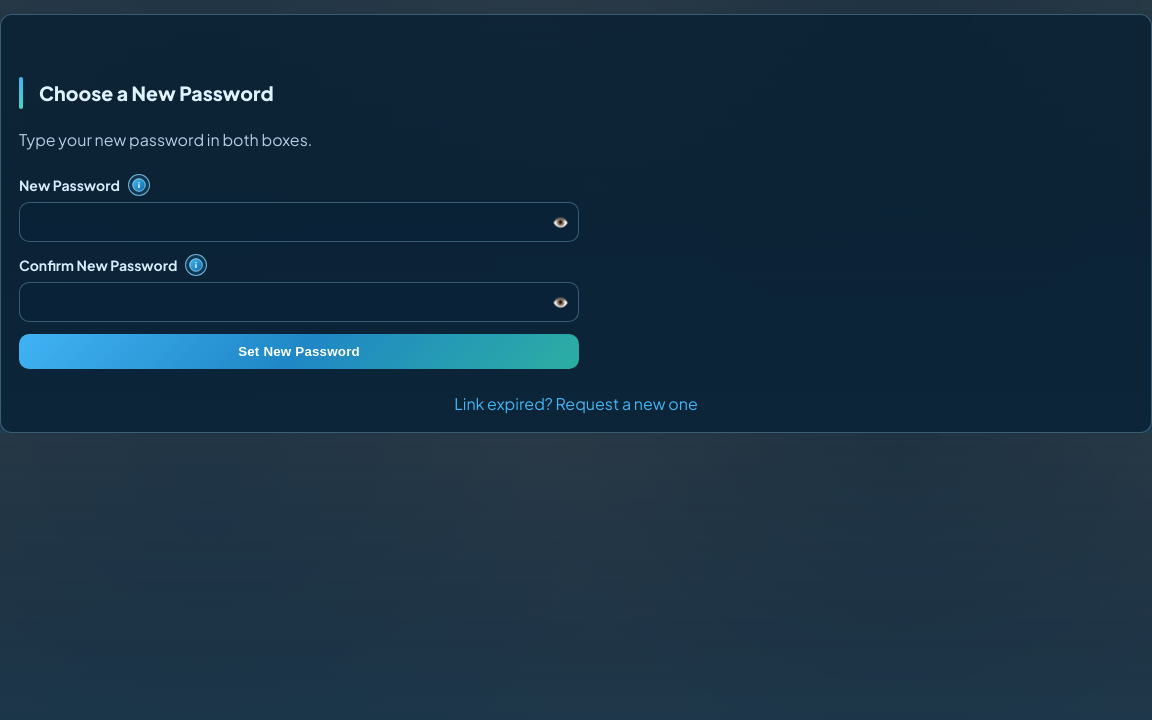
ResetPasswordPage › sets the new password with the token from the link
Type "BrandNew123" into the password field labelled "New Password". click: (299, 222)
box: [19, 202, 579, 242]
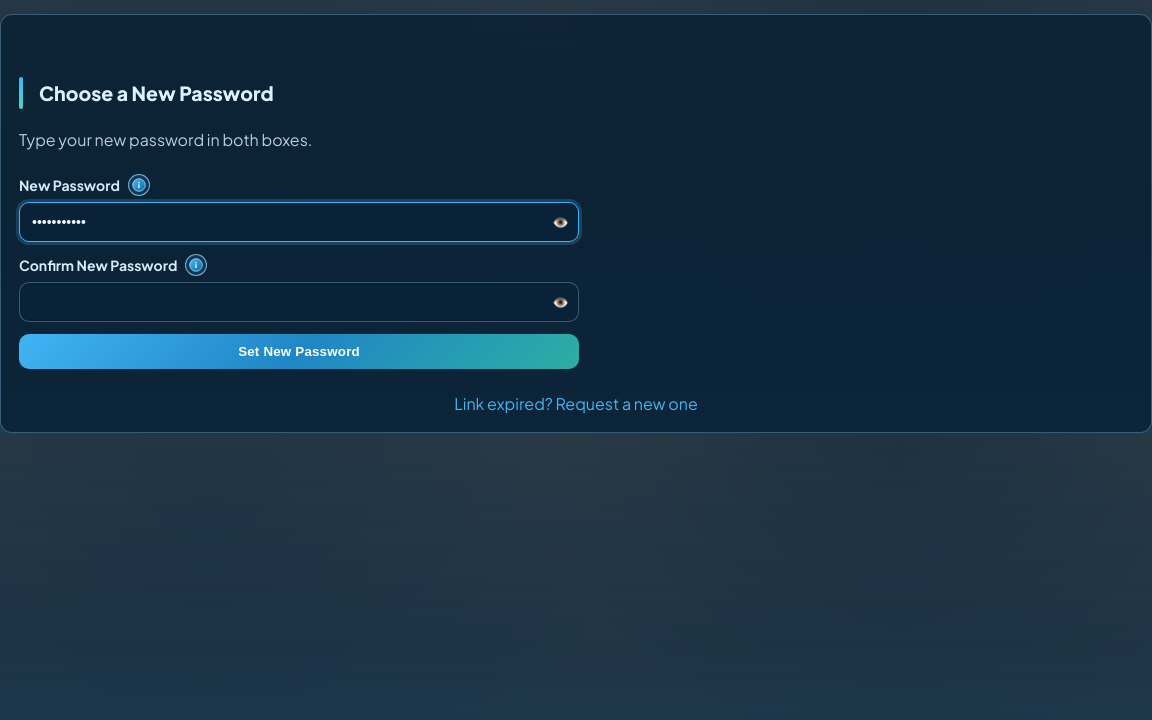
Type "BrandNew123" into the password field labelled "Confirm New Password". click: (299, 302)
box: [19, 282, 579, 322]
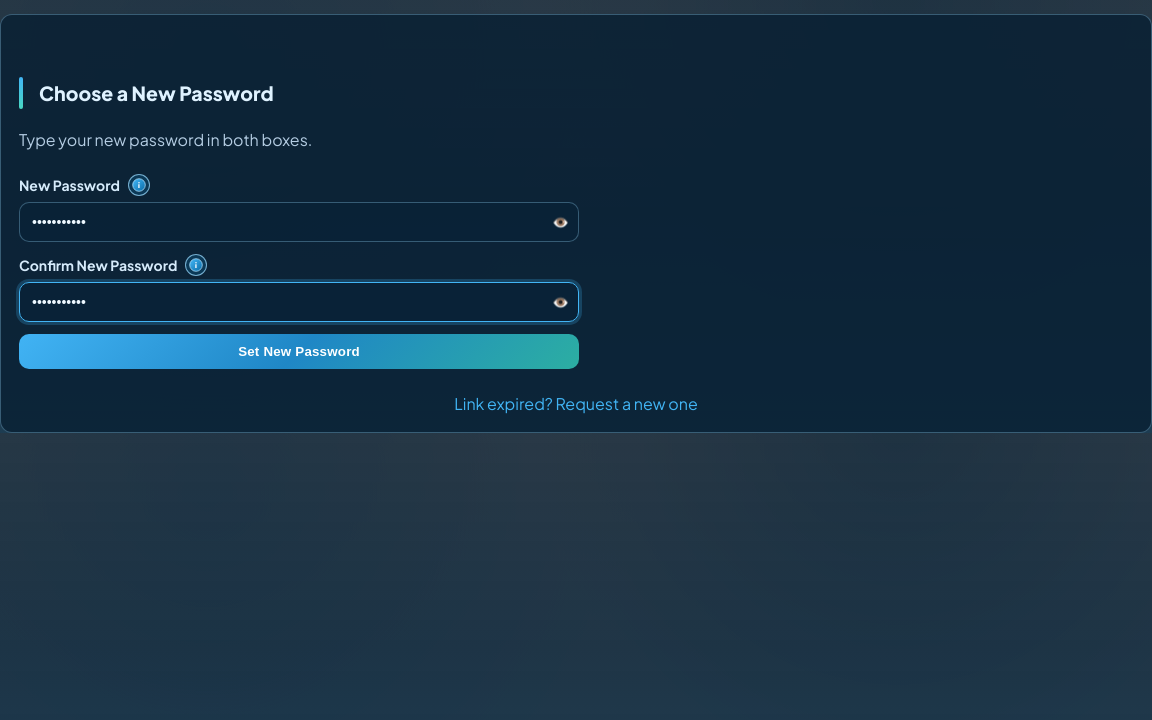
Click the button "Set New Password". click: click(299, 352)
box: [19, 334, 579, 369]
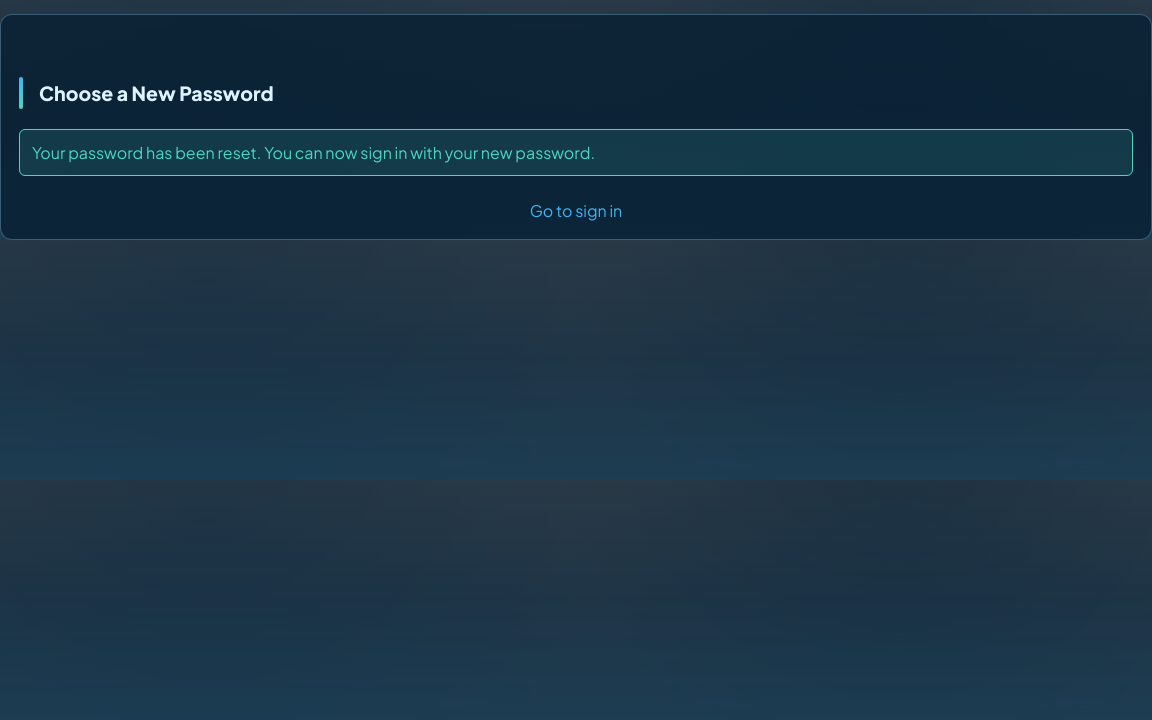
Now the text "Your password has been reset" is shown, box [32, 142, 595, 163]
Now the link "Go to sign in" is shown, box [530, 200, 622, 221]
